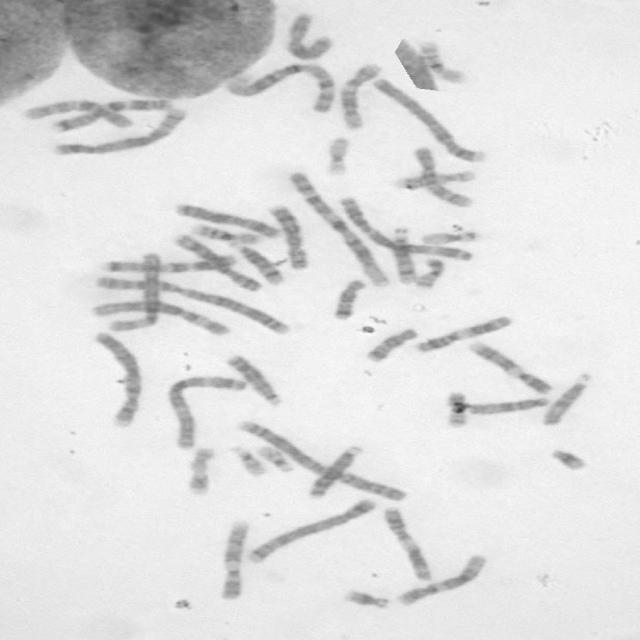A1: (286, 169, 392, 288), (223, 61, 339, 114)
A2: (233, 416, 411, 504), (89, 274, 295, 336)
A3: (334, 193, 476, 262), (161, 372, 248, 451)
B4: (370, 74, 488, 164), (90, 330, 144, 429)
B5: (243, 496, 378, 564), (48, 105, 189, 157)
C10: (409, 145, 475, 208), (18, 96, 137, 130)
C11: (378, 504, 434, 582), (411, 312, 514, 354)
C12: (392, 552, 489, 607), (334, 62, 382, 130)
C6: (90, 297, 234, 338), (104, 249, 165, 331)
C7: (45, 95, 176, 134), (97, 252, 236, 274)
C8: (170, 231, 265, 293), (265, 202, 311, 272)
C9: (465, 339, 554, 396), (214, 516, 252, 600)
D13: (303, 443, 366, 499), (223, 352, 285, 407)
D14: (228, 240, 286, 286), (387, 225, 418, 286)
D15: (537, 371, 593, 427), (463, 394, 552, 416)
E16: (414, 38, 468, 85), (188, 221, 263, 245)
E17: (395, 169, 479, 192), (183, 444, 216, 497)
E18: (362, 326, 418, 363), (329, 278, 367, 320)
F19: (319, 134, 353, 176), (417, 228, 479, 246)
F20: (410, 256, 447, 289), (442, 390, 469, 429)
G21: (338, 586, 392, 610), (545, 446, 589, 472)
G22: (228, 443, 269, 478), (254, 443, 297, 473)
X: (170, 200, 282, 238), (282, 10, 334, 60)
